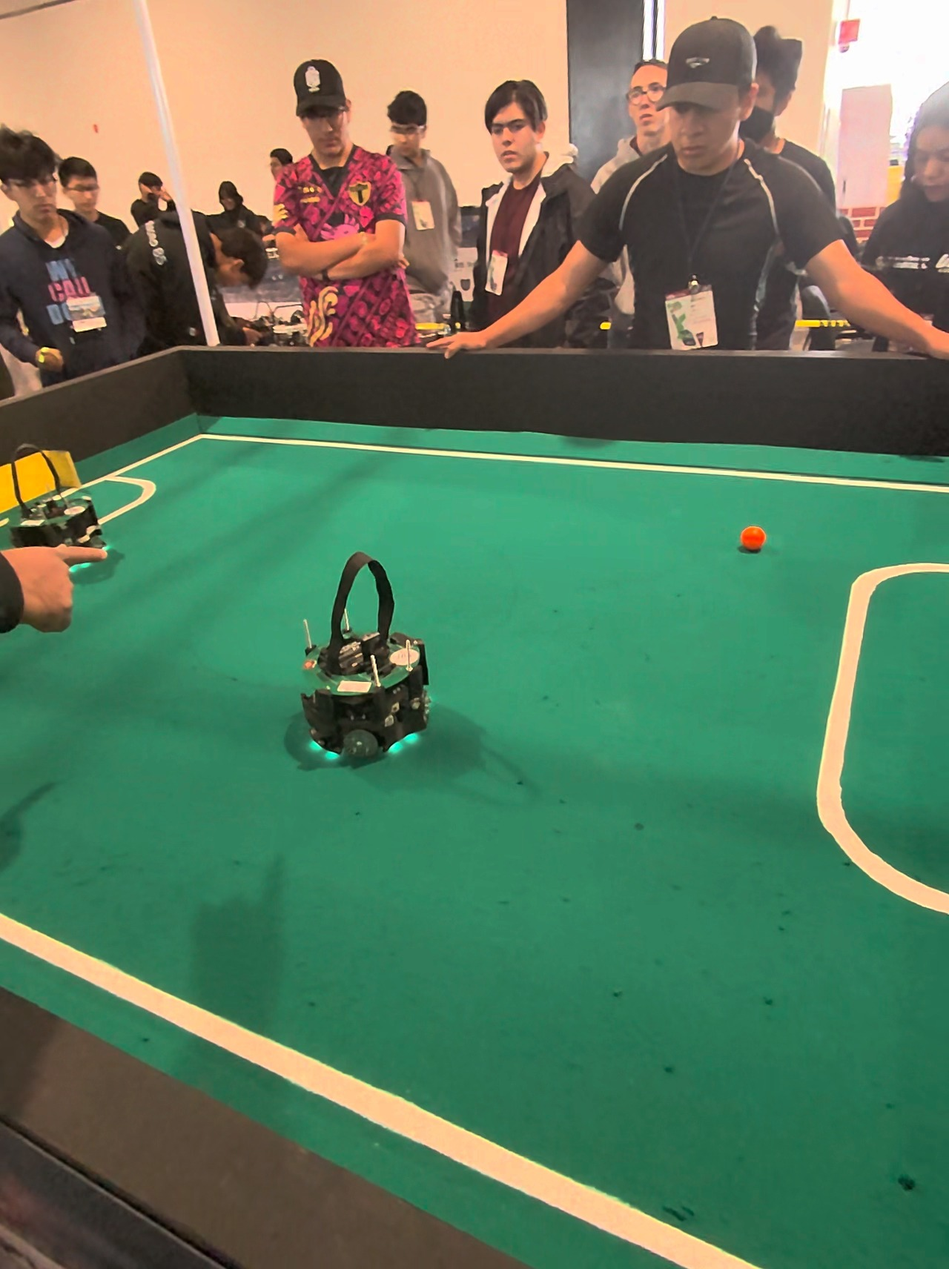Robot: (285, 543, 443, 790), (0, 440, 114, 585)
pelota: (733, 521, 779, 565)
